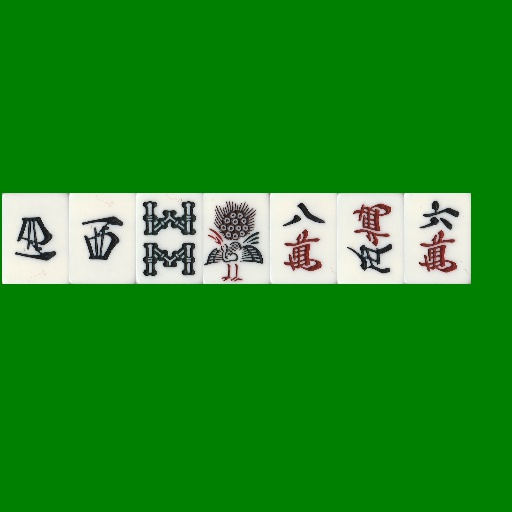1s: (203, 193, 270, 284)
5m: (337, 193, 404, 284)
6m: (404, 193, 471, 284)
8m: (270, 193, 337, 284)
8s: (136, 193, 203, 284)
west: (2, 193, 69, 284), (69, 193, 136, 284)
